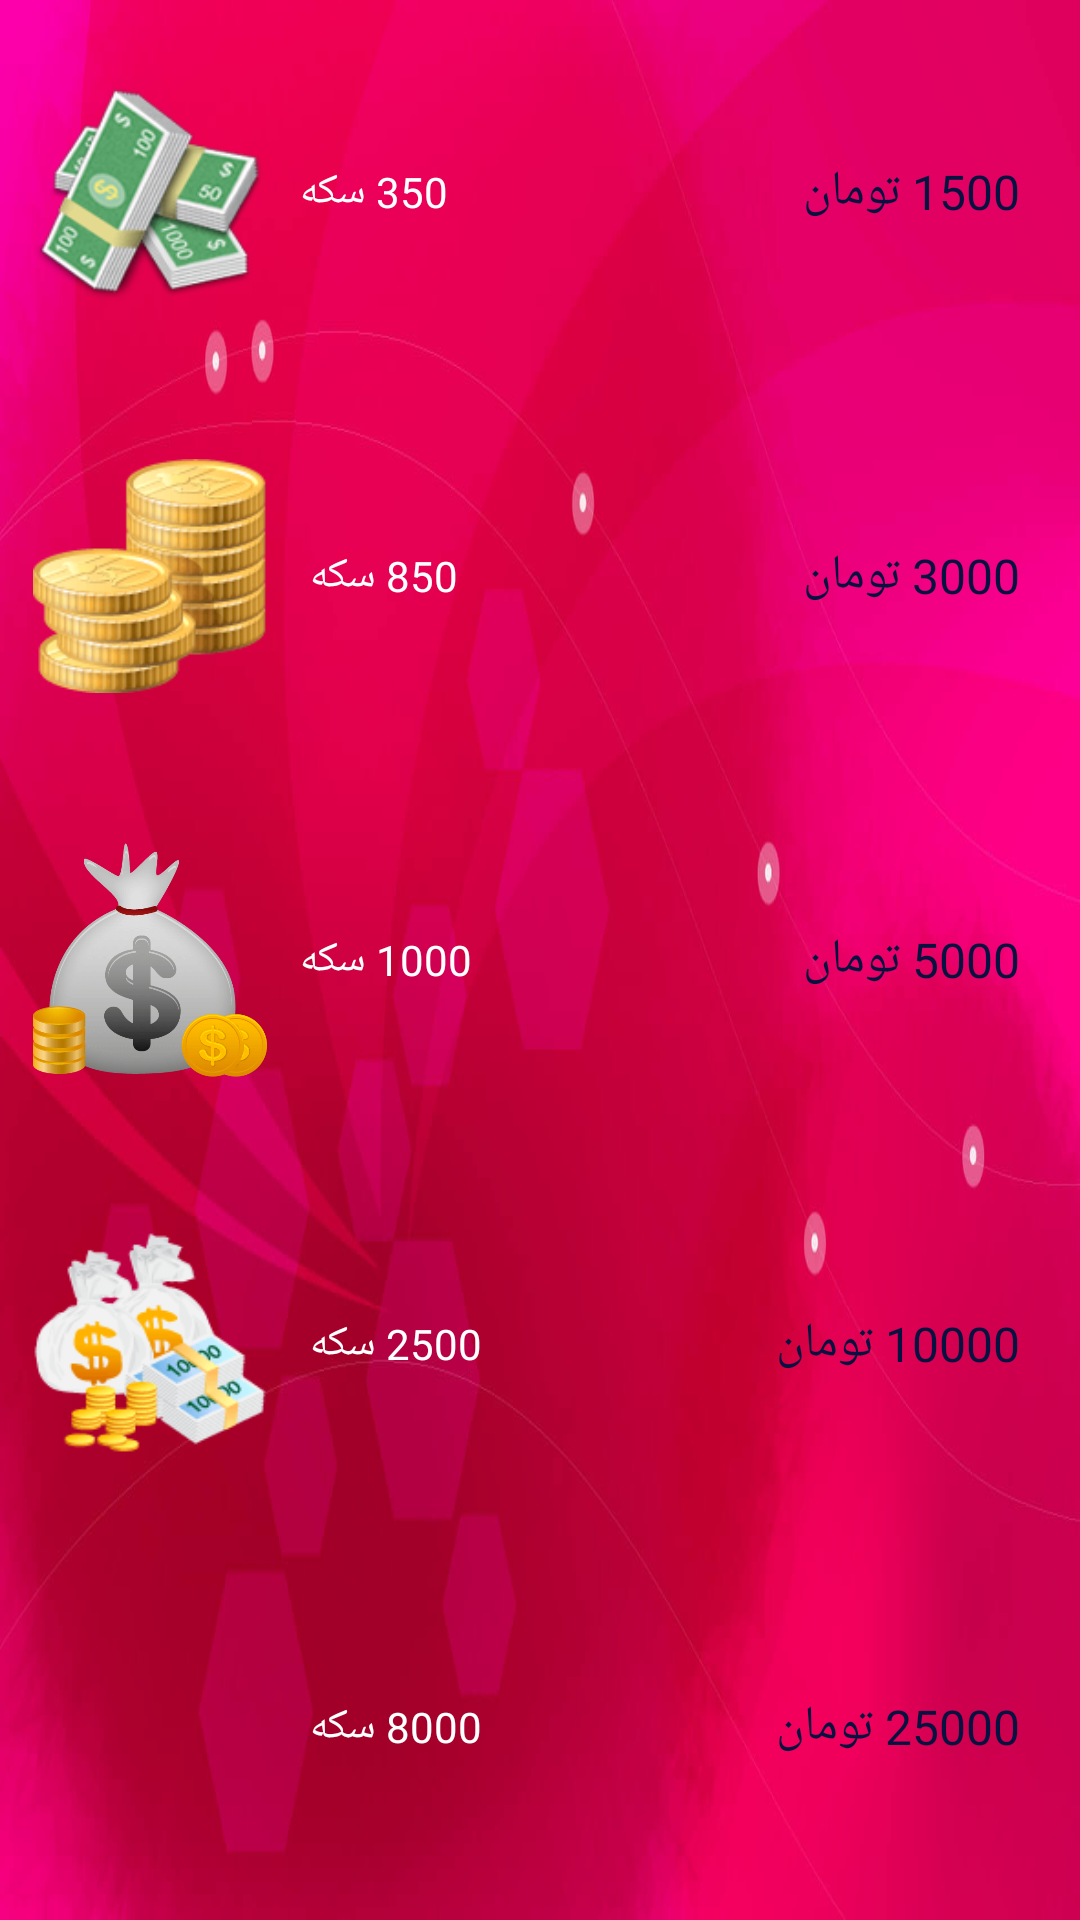

Icons on this 1080px x 1920px Android screen, each with the point to tap as (x,y):
twbuy: (149,540)
